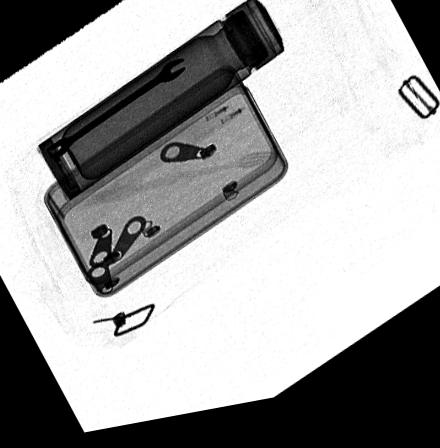Wrench: (44, 63, 188, 161)
